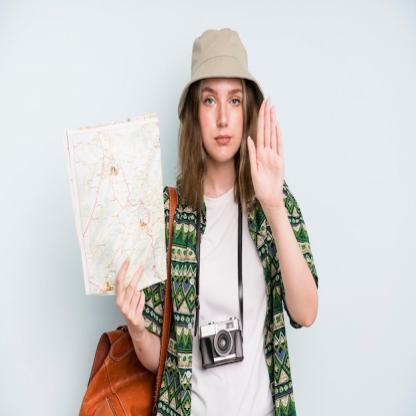stop: (246, 92, 289, 212)
